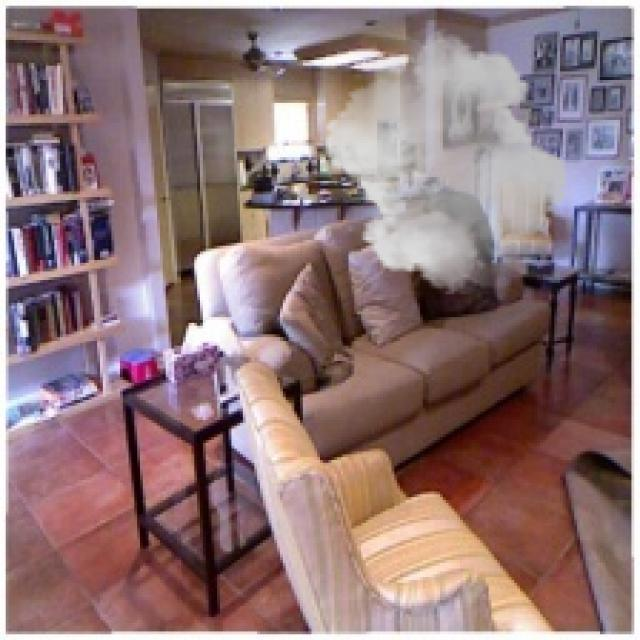Smoke: (314, 28, 577, 294)
